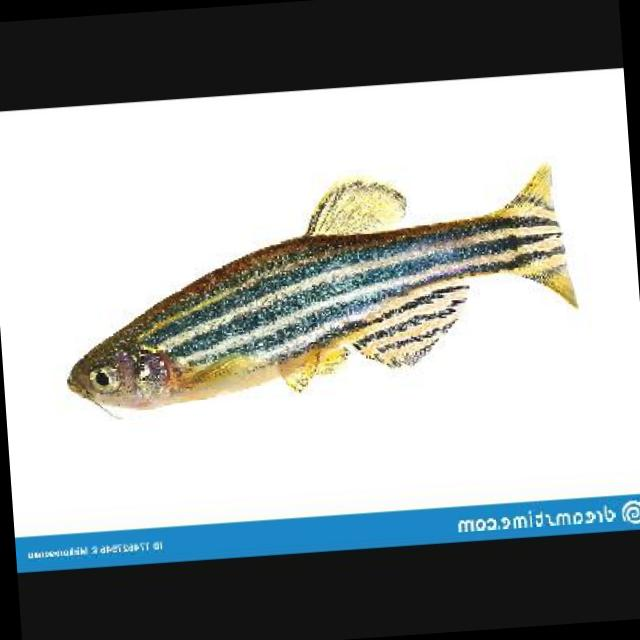ZebraFish: (52, 161, 578, 418)
